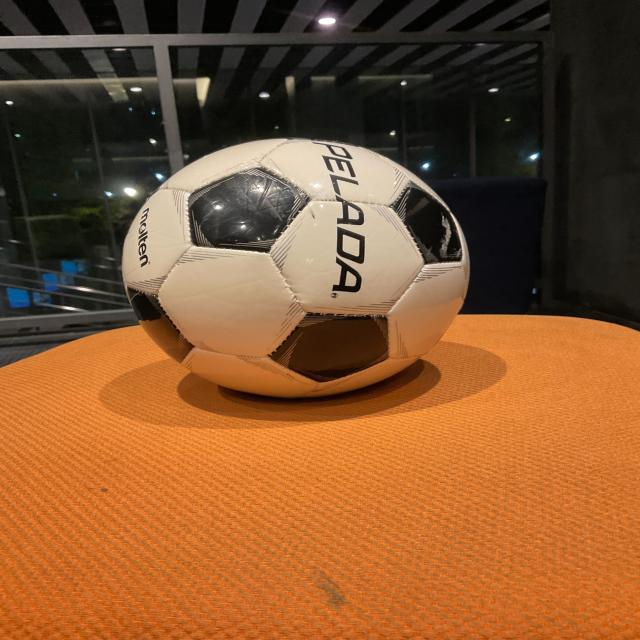ball: (130, 136, 463, 401)
